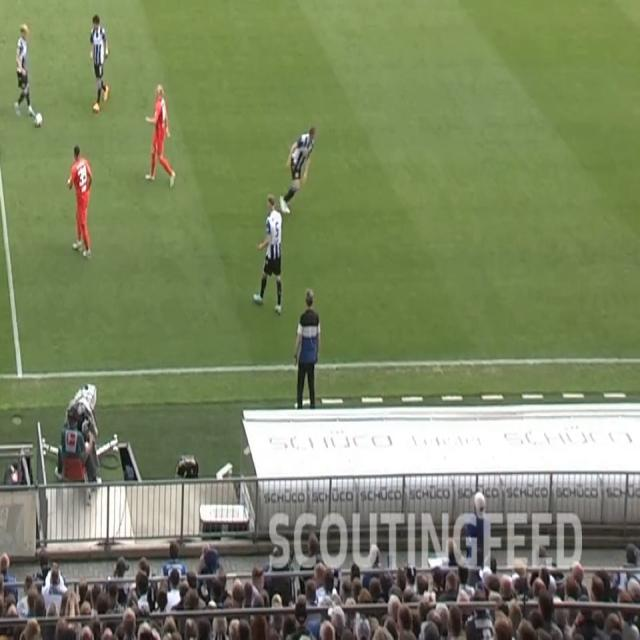ball: (34, 111, 44, 129)
